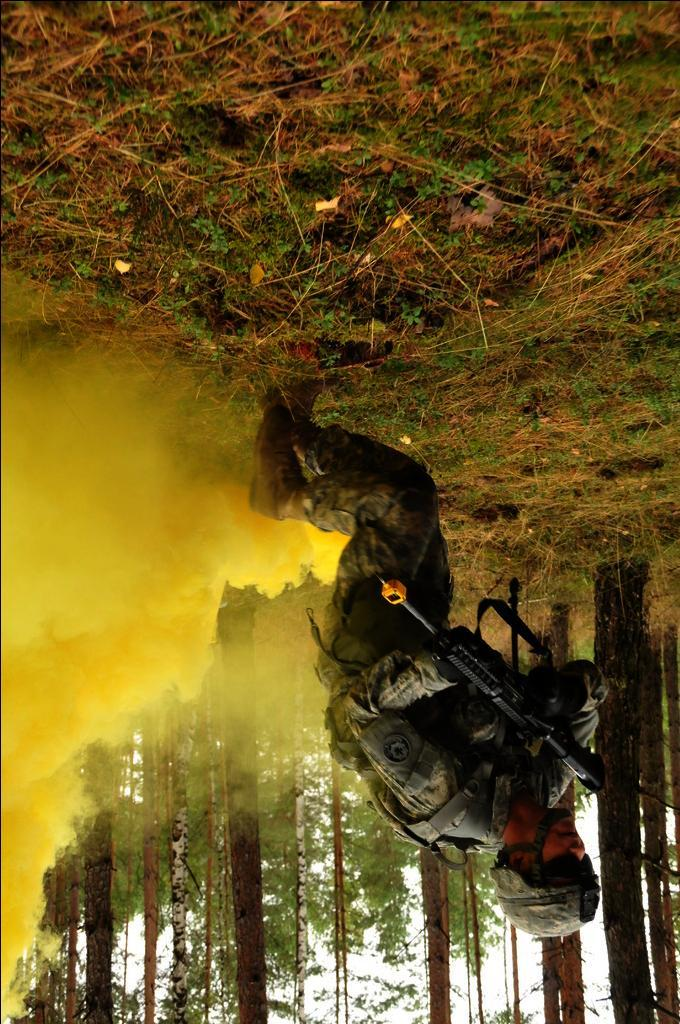gun: (376, 574, 604, 794)
